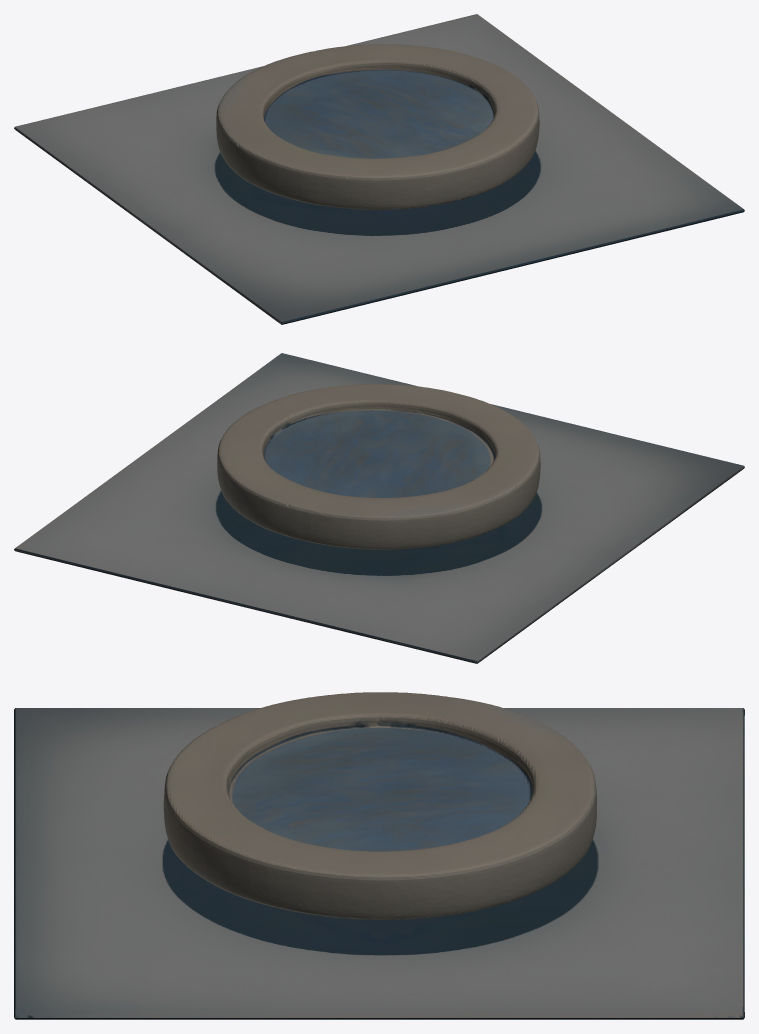
The model's file is room-09-reflection-basin.glb.
3 renders of one model, top to bottom at view 1: azimuth 30°, elevation 25°; view 2: azimuth 150°, elevation 25°; view 3: azimuth 270°, elevation 25°, orthographic. The views are drawn at different scales.
Visible parts, largest first — view 1: textured_mesh.obj; view 2: textured_mesh.obj; view 3: textured_mesh.obj.
Part boxes in pixels (<box>): textured_mesh.obj: <box>14,14,744,324</box>; textured_mesh.obj: <box>14,353,744,663</box>; textured_mesh.obj: <box>14,692,744,1019</box>.
Size of the model in its own units: 2.38 by 0.3 by 2.38.
Materials: 1 (1 with a texture image).
